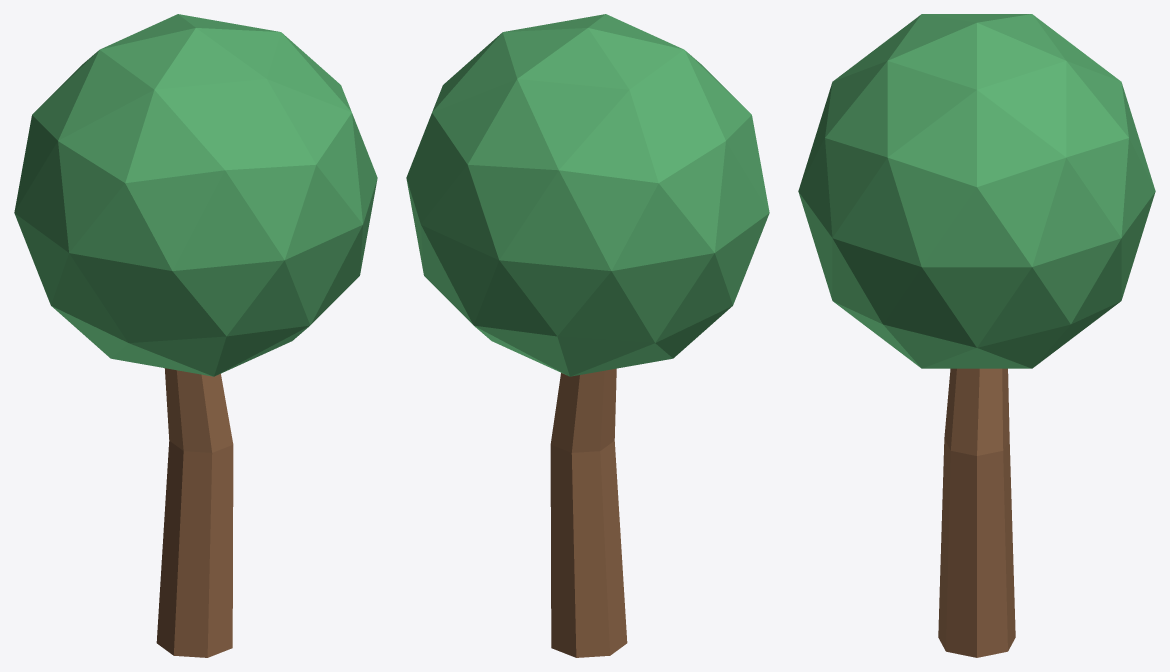
Rendered from LowPoly_Tree_A.fbx.
The picture shows the model from 3 angles, left to right: view 1: azimuth 30°, elevation 25°; view 2: azimuth 150°, elevation 25°; view 3: azimuth 270°, elevation 25°; orthographic projection.
Visible parts, largest first — view 1: Foliage, Trunk; view 2: Foliage, Trunk; view 3: Foliage, Trunk.
Boxes of the visible parts, bbox=[...] form: Foliage: bbox=[14, 14, 377, 376]; Trunk: bbox=[156, 368, 233, 657]; Foliage: bbox=[406, 14, 769, 376]; Trunk: bbox=[550, 368, 627, 657]; Foliage: bbox=[798, 14, 1155, 368]; Trunk: bbox=[938, 368, 1015, 657].
Size of the model in its own units: 1.45 by 2.75 by 1.44.
